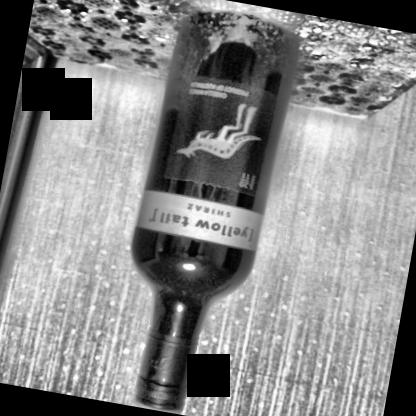yellowtail: (139, 72, 284, 252)
